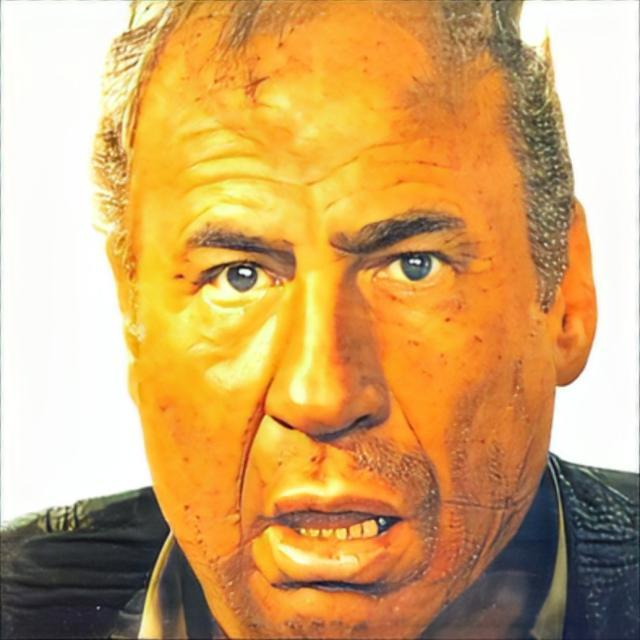anger: (134, 58, 564, 640)
